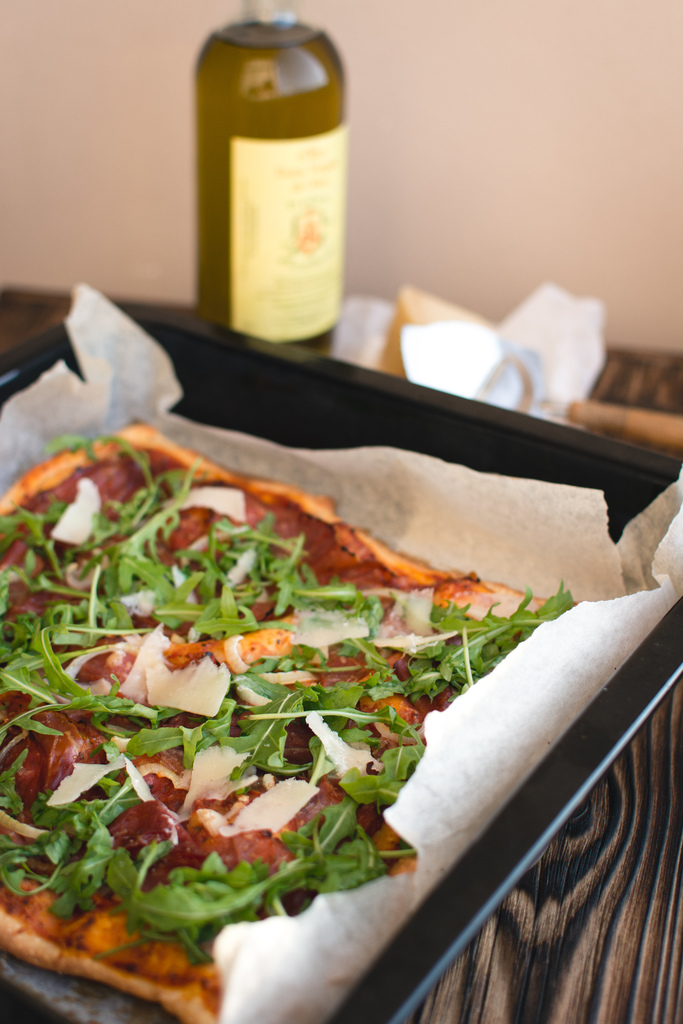Pizza: (0, 405, 578, 1018)
